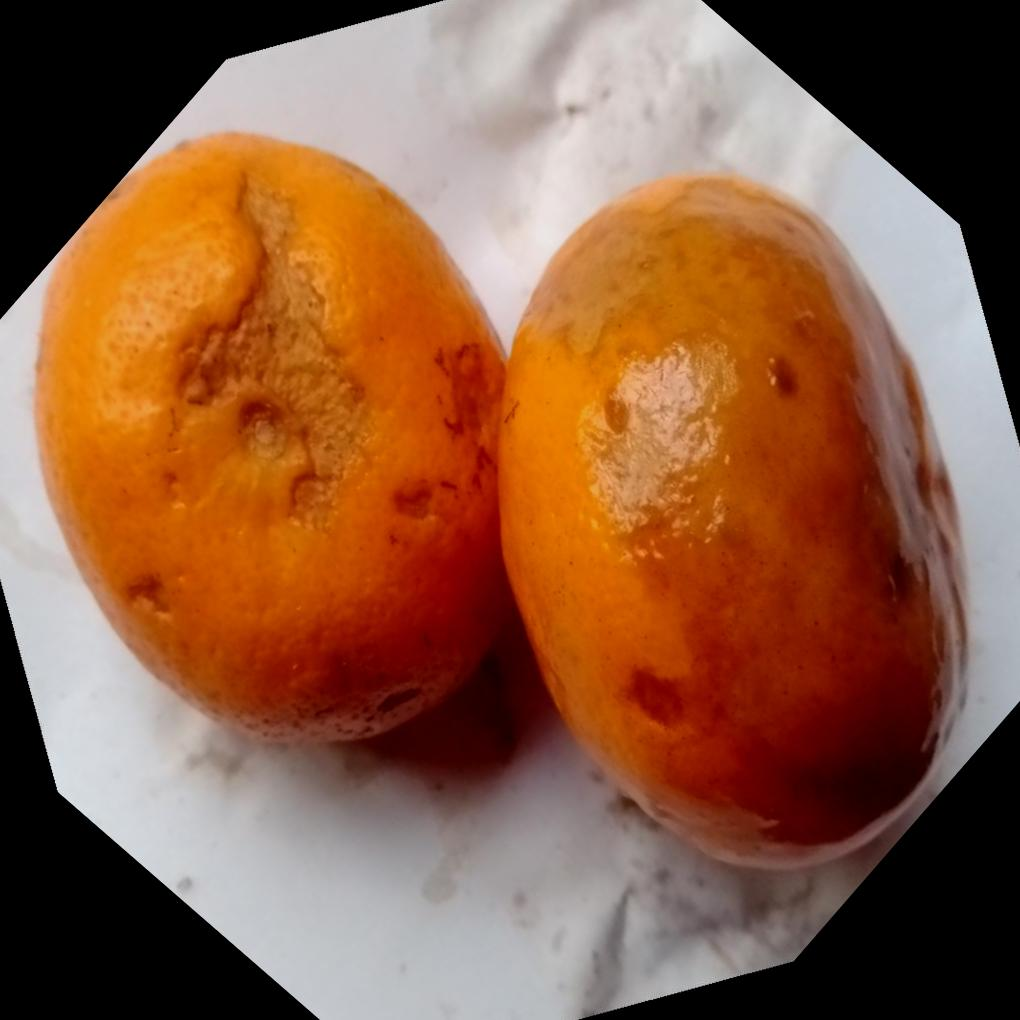FreshOrange: (30, 130, 970, 877)
